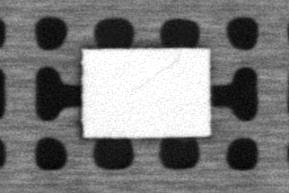DIE_CRACK: (133, 57, 180, 90)
